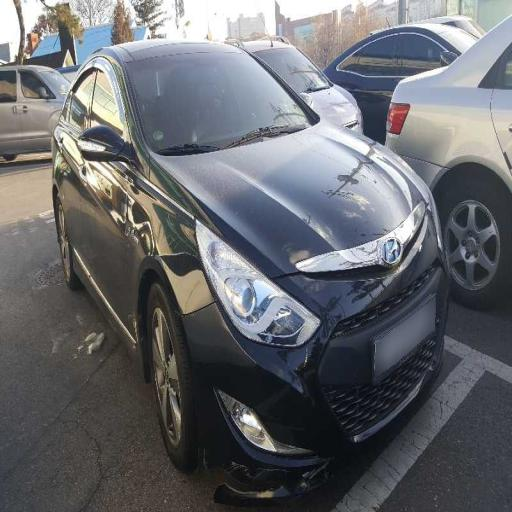broken: (198, 357, 318, 512), (269, 245, 414, 334)
scratch: (294, 117, 416, 257)
